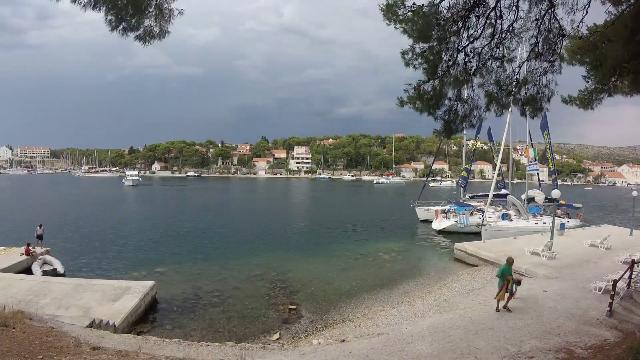Sailboat: (372, 174, 411, 186)
ferry: (119, 168, 148, 188)
